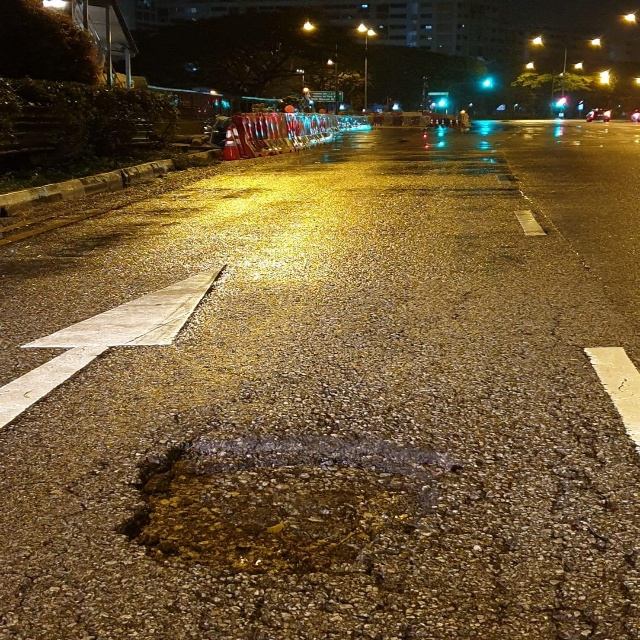pothole: (122, 434, 460, 640)
